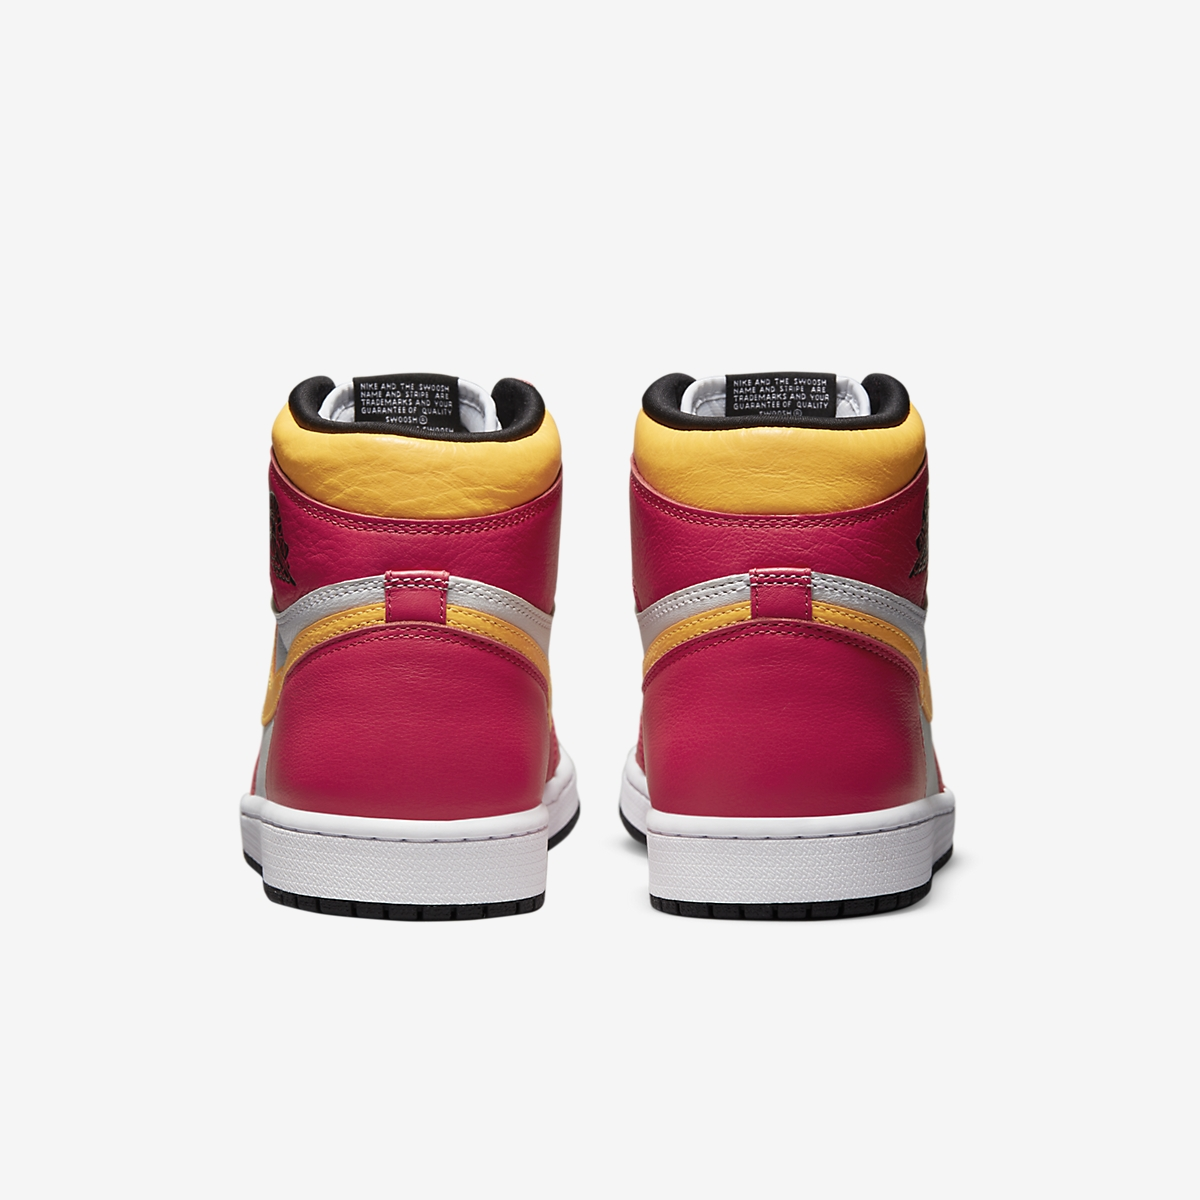Jordan 1: (226, 362, 597, 959), (612, 360, 978, 946)
